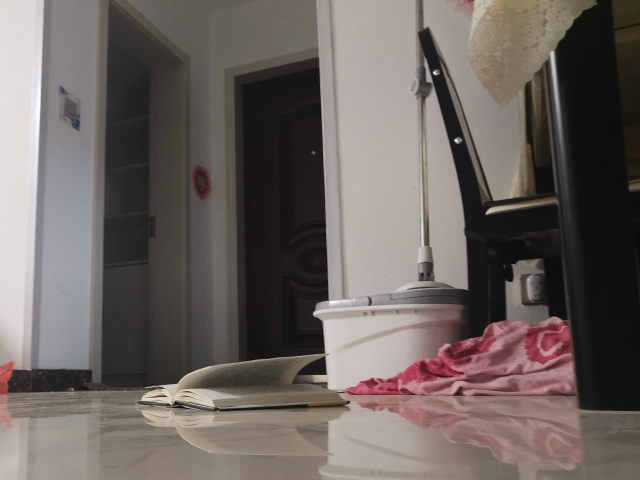book: (135, 351, 354, 413)
stool: (416, 26, 560, 346)
table: (517, 1, 640, 416)
